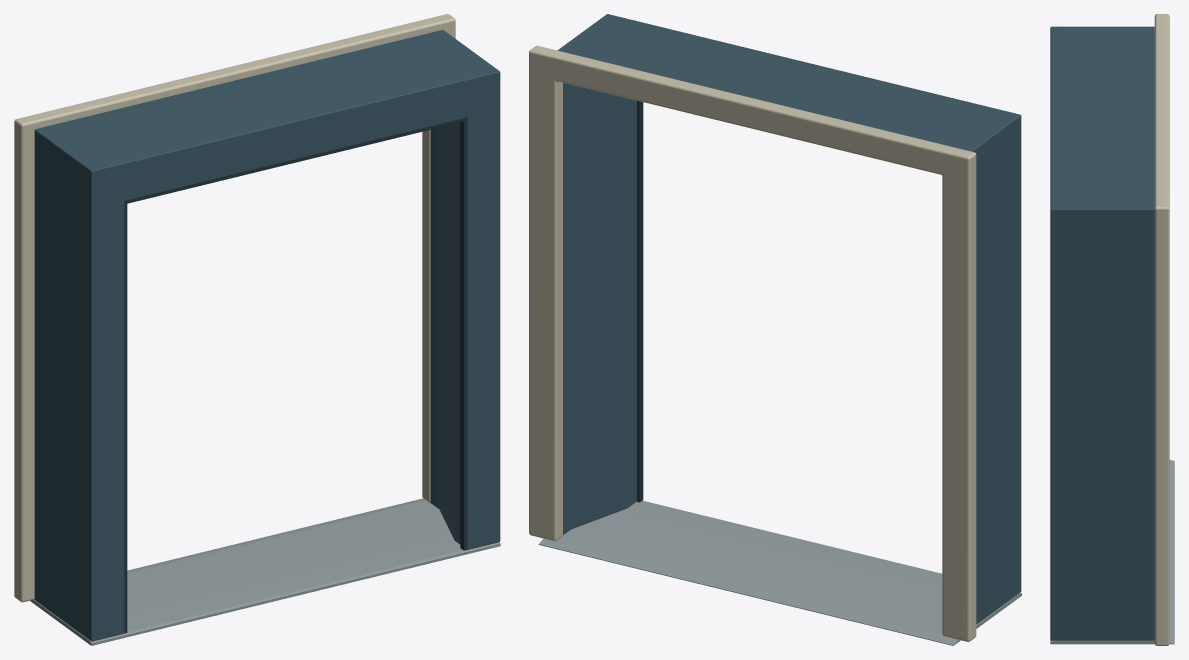
Rendered from city_shop_fittings_03_double.glb.
3 renders of one model, left to right at view 1: azimuth 30°, elevation 25°; view 2: azimuth 150°, elevation 25°; view 3: azimuth 270°, elevation 25°, orthographic. The views are drawn at different scales.
Parts seen in each view (by area): view 1: double_recessed_reveal, double_sloped_threshold, double_rounded_face_casing, double_rear_stop; view 2: double_recessed_reveal, double_rounded_face_casing, double_sloped_threshold, double_rear_stop; view 3: double_recessed_reveal, double_rounded_face_casing, double_sloped_threshold.
Part boxes in pixels (x1=…): double_recessed_reveal: x1=34, y1=30, x2=500, y2=641; double_sloped_threshold: x1=30, y1=498, x2=500, y2=645; double_rounded_face_casing: x1=14, y1=14, x2=455, y2=602; double_rear_stop: x1=124, y1=118, x2=466, y2=633; double_recessed_reveal: x1=557, y1=14, x2=1021, y2=624; double_rounded_face_casing: x1=529, y1=45, x2=976, y2=641; double_sloped_threshold: x1=538, y1=500, x2=1021, y2=645; double_rear_stop: x1=636, y1=100, x2=643, y2=502; double_recessed_reveal: x1=1050, y1=26, x2=1154, y2=640; double_rounded_face_casing: x1=1154, y1=14, x2=1169, y2=645; double_sloped_threshold: x1=1050, y1=460, x2=1174, y2=644.
Bounding box in the file's own units: 2.34 × 2.48 × 0.63.
